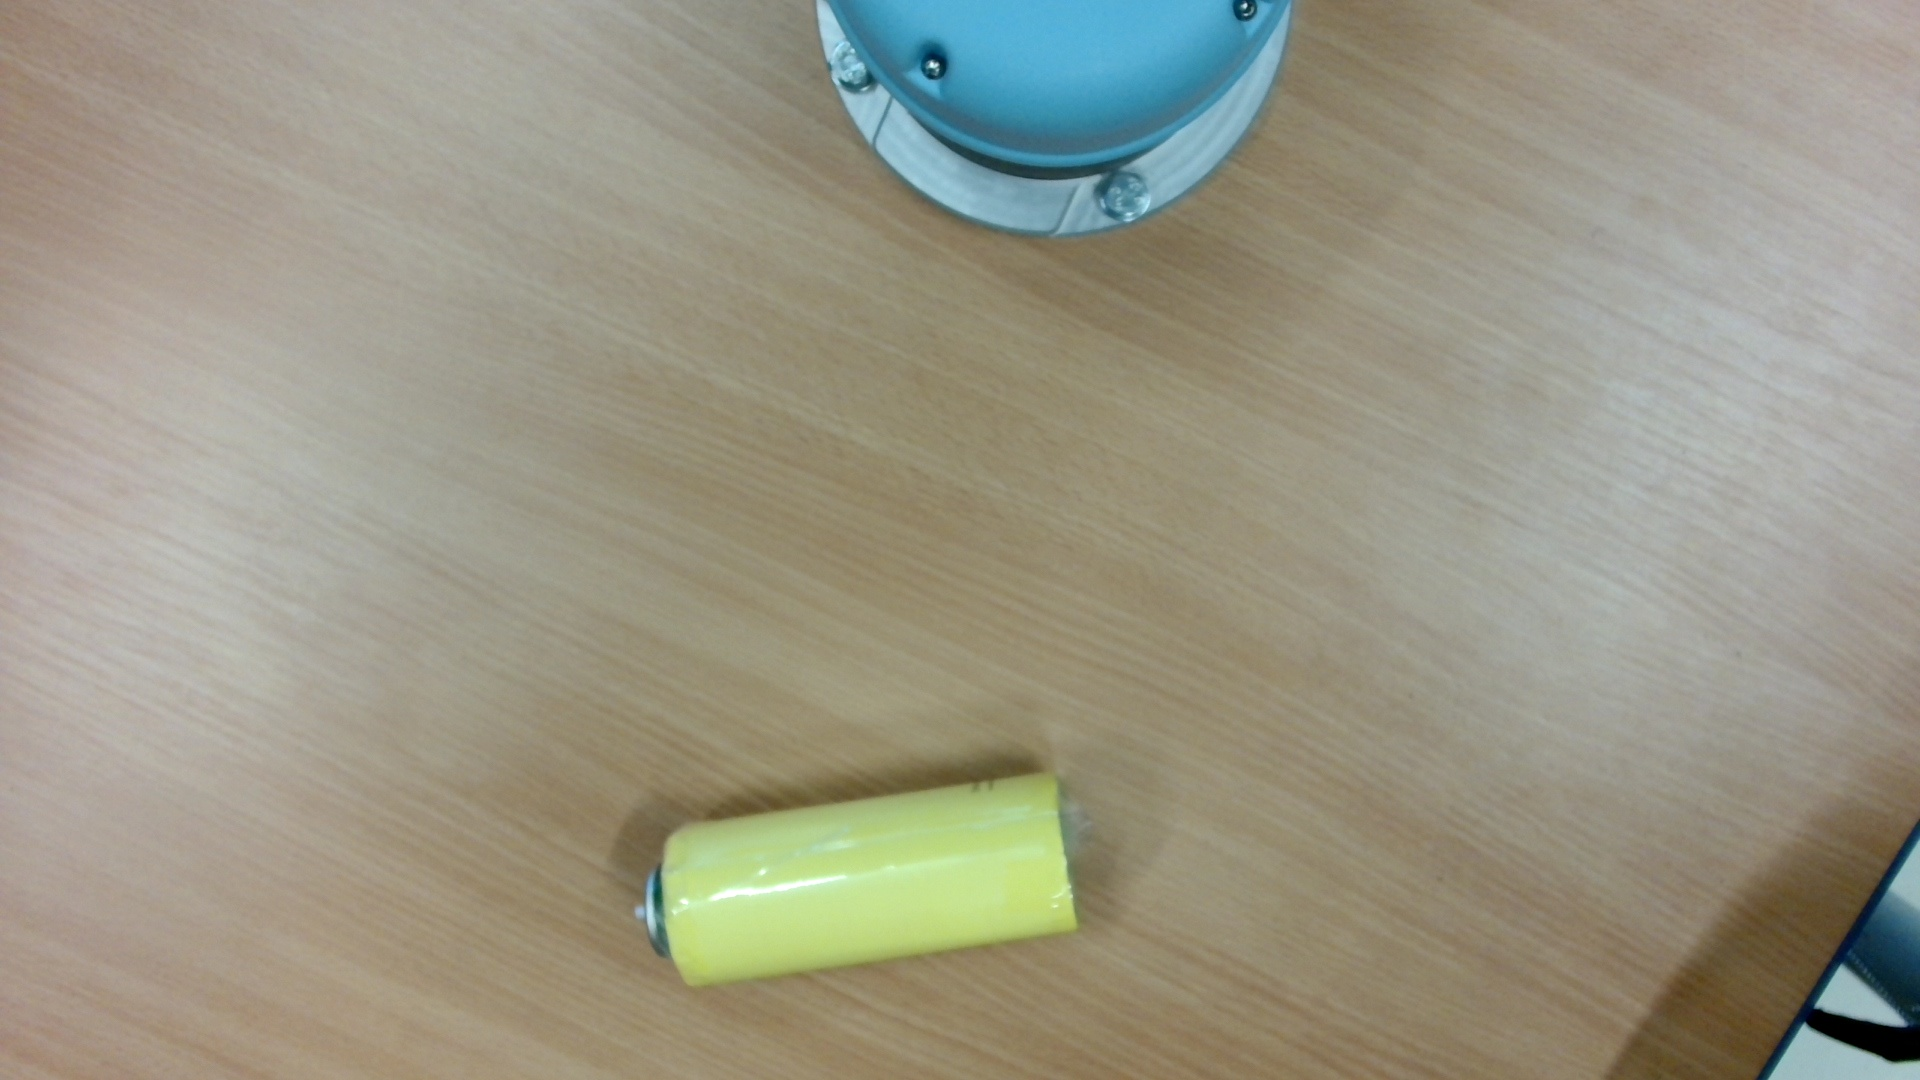Cylinder: (616, 758, 1114, 1004)
